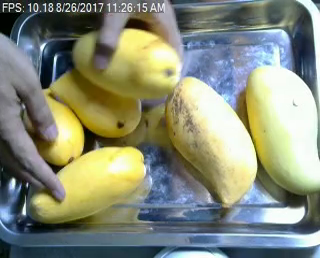Mango: (166, 75, 257, 205), (24, 144, 145, 225), (247, 65, 320, 195), (72, 28, 180, 95), (50, 67, 141, 136), (17, 90, 84, 163)
